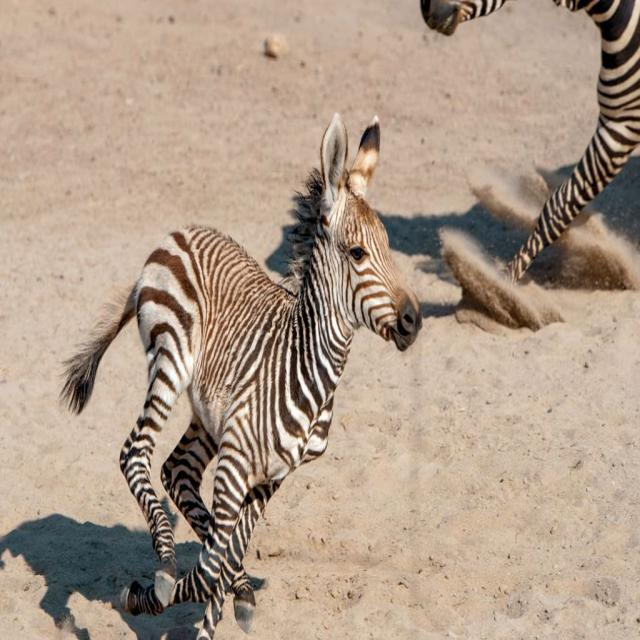zebra: (62, 114, 422, 639)
